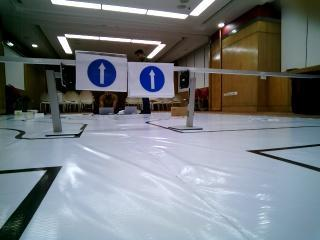straight: (74, 53, 127, 91), (127, 60, 173, 98)
